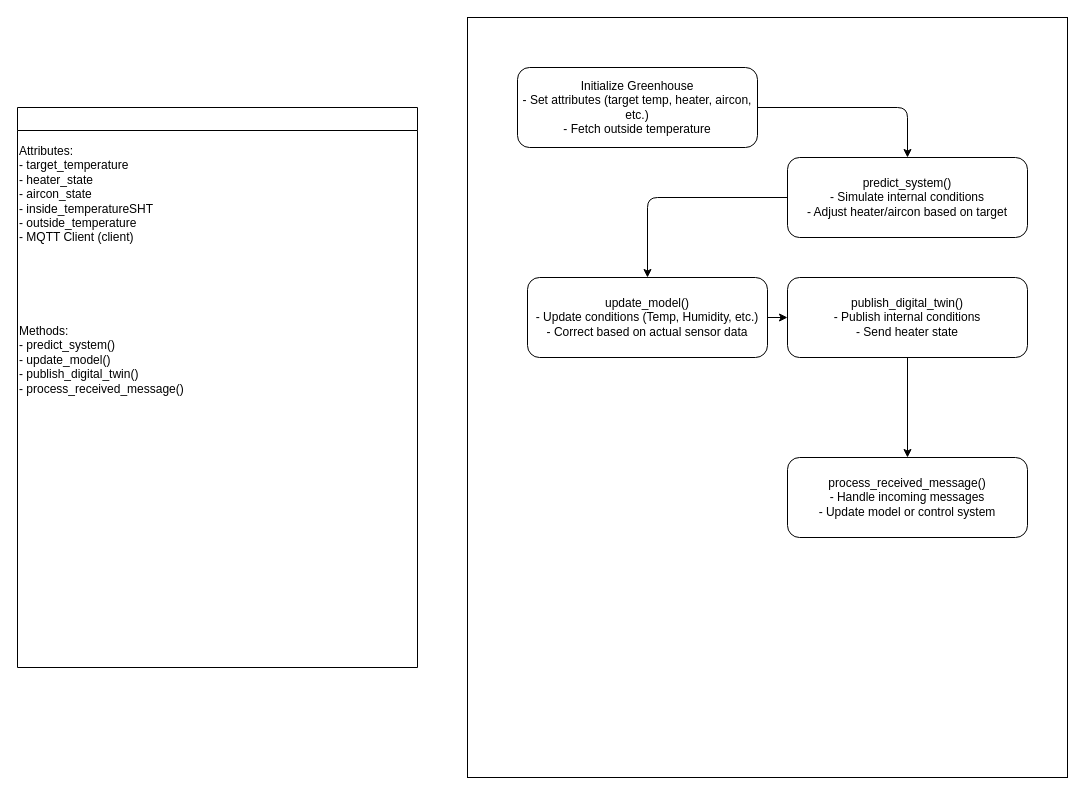
The diagram is 1085 pixels wide and 795 high, and some of its shapes have lost their labels. Each missing label, with the box of its shape:
Block Diagram: Greenhouse Class Behavior: (466, 16, 1068, 778)
Greenhouse Class: (16, 106, 418, 668)
